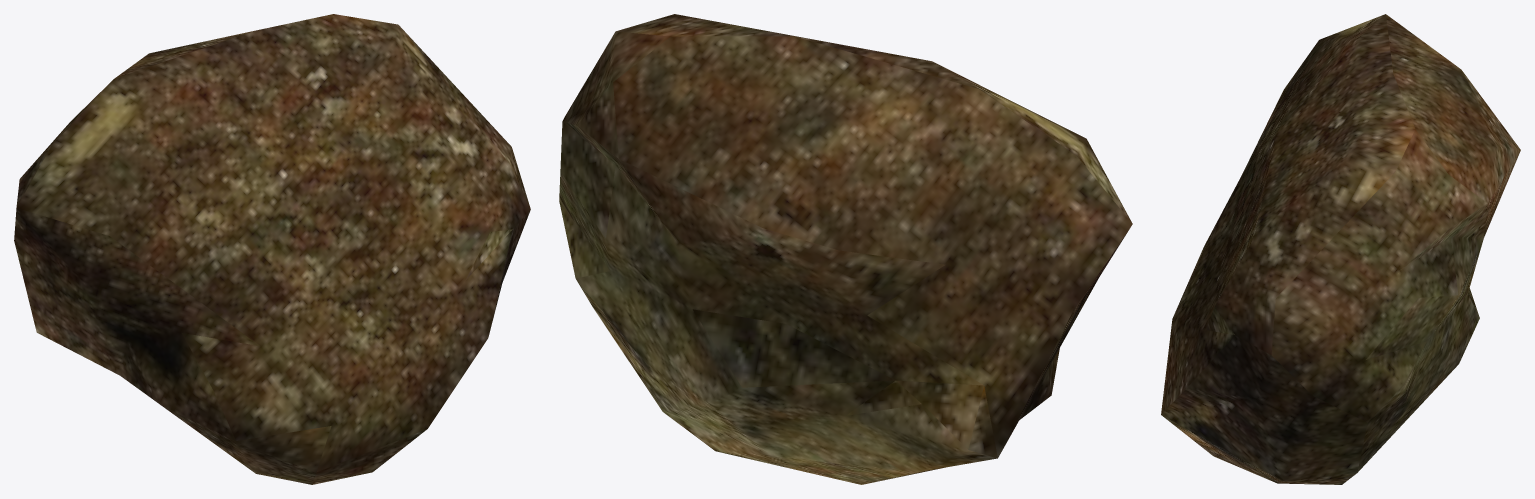
3 renders of one model, left to right at view 1: azimuth 30°, elevation 25°; view 2: azimuth 150°, elevation 25°; view 3: azimuth 270°, elevation 25°, orthographic. The views are drawn at different scales.
Visible parts, largest first — view 1: rock003_lod4; view 2: rock003_lod4; view 3: rock003_lod4.
Boxes of the visible parts, box(x1,y1,x2,y2) form: rock003_lod4: box(14, 14, 530, 484); rock003_lod4: box(559, 14, 1132, 484); rock003_lod4: box(1161, 14, 1520, 484).
Size of the model in its own units: 1 by 0.7894 by 0.6687.
1 material, 1 textured.
